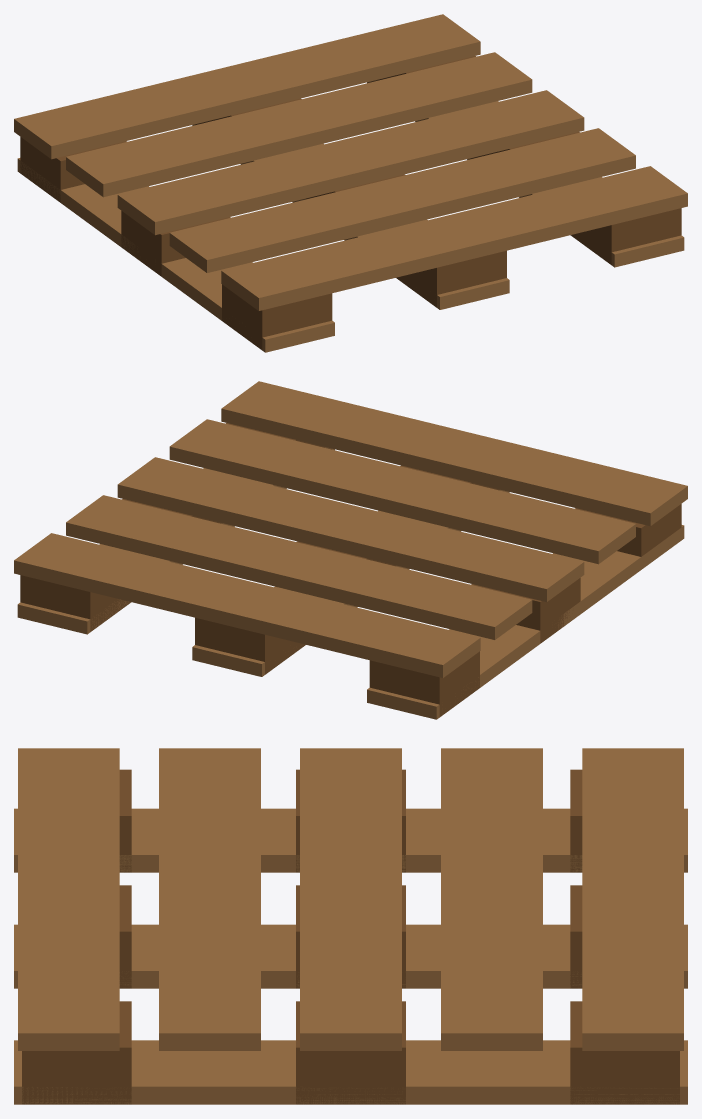
Rendered from pallet.glb.
3 views of the same model, one above another, from view 1: azimuth 30°, elevation 25°; view 2: azimuth 150°, elevation 25°; view 3: azimuth 270°, elevation 25° (orthographic). The views are drawn at different scales.
Visible parts, largest first — view 1: EuroPallet; view 2: EuroPallet; view 3: EuroPallet.
Part boxes in pixels (box(x1,y1,x2,y2)): EuroPallet: box(14, 14, 687, 352); EuroPallet: box(14, 381, 687, 719); EuroPallet: box(14, 748, 687, 1104).
Size of the model in its own units: 0.86 by 0.105 by 0.86.
